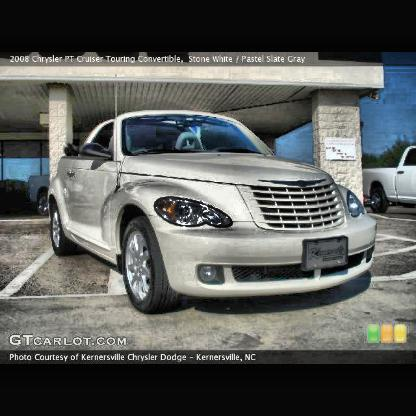Chrysler PT Cruiser Convertible 2008: (42, 106, 384, 319)
